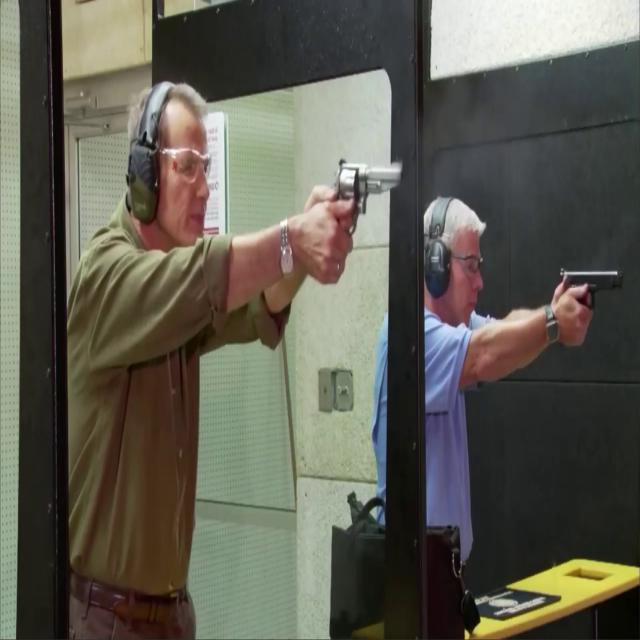Gun: (331, 160, 404, 238), (556, 270, 622, 348)
